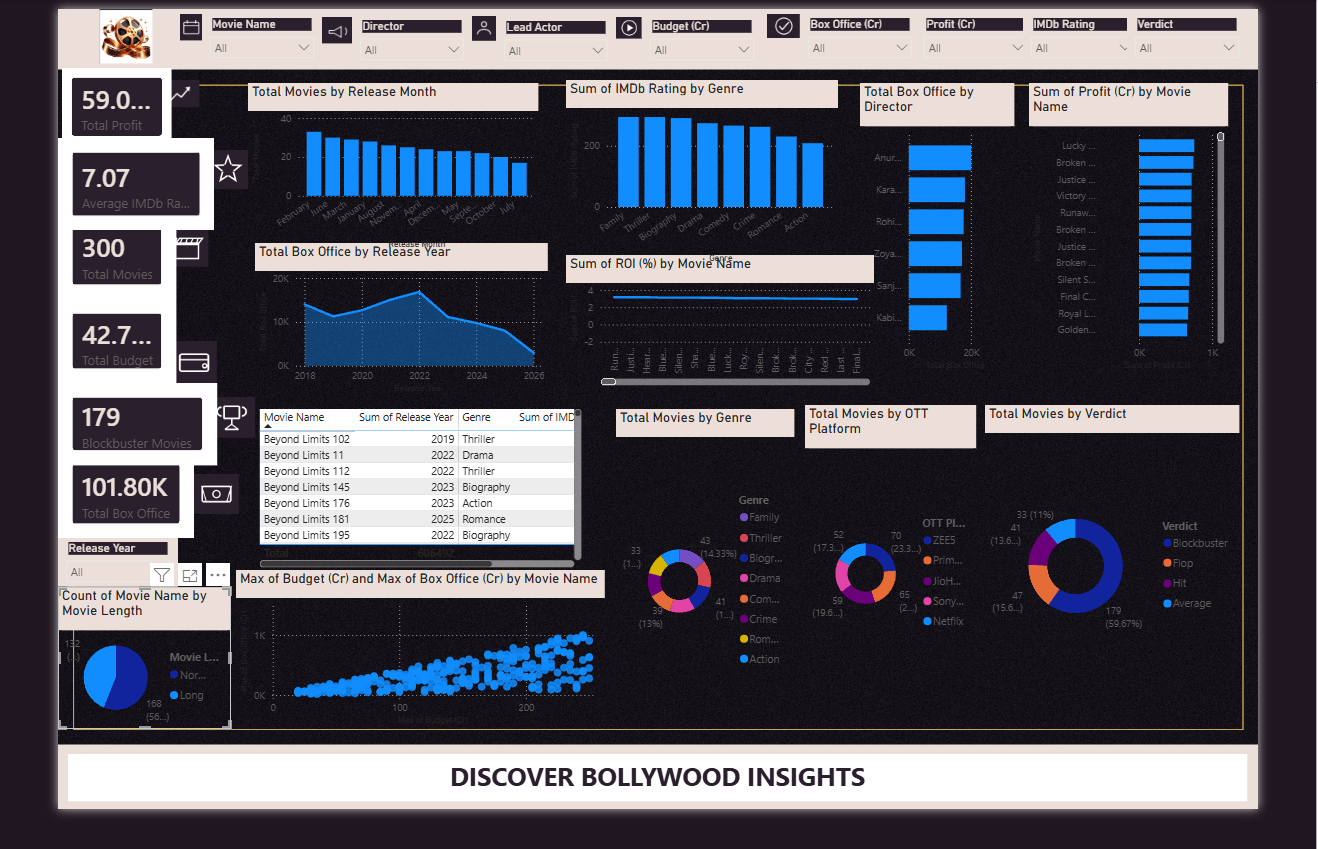

The page's visual inventory and layout, read from the dashboard file:
{"tool":"powerbi","page":{"name":"Page 1","canvas":[1500,1000],"ordinal":0},"visuals":[{"type":"image","box":[135,276.2,52.5,46.2],"z":0},{"type":"image","box":[170,581.2,55.7,50],"z":1000},{"type":"image","box":[142.5,415,55.7,52.9],"z":2000},{"type":"image","box":[128.8,88.8,47.5,33.8],"z":3000},{"type":"image","box":[187.5,176.2,50,48.8],"z":4000},{"type":"image","box":[187.5,485,58.6,51.4],"z":5000},{"type":"image","box":[152.5,6.2,28,33],"z":6000},{"type":"image","box":[517.5,8.8,30,31],"z":7000},{"type":"image","box":[330,10,37.5,32.5],"z":8000},{"type":"image","box":[886.2,6.2,41,30],"z":9000},{"type":"image","box":[697.5,10,32,27],"z":10000},{"type":"cardVisual","fields":{"Data":["BollywoodMovies.Total Movies"]},"box":[0,252.5,147.5,110],"z":11000},{"type":"cardVisual","fields":{"Data":["BollywoodMovies.Total Box Office"]},"box":[0,551.2,170,110],"z":12000},{"type":"cardVisual","fields":{"Data":["BollywoodMovies.Total Budget"]},"box":[0,362.5,147.5,105],"z":13000},{"type":"cardVisual","fields":{"Data":["BollywoodMovies.Total Profit"]},"box":[0,68.8,147.5,107.5],"z":14000},{"type":"cardVisual","fields":{"Data":["BollywoodMovies.Average IMDb Rating"]},"box":[0,161.2,195,115],"z":15000},{"type":"cardVisual","fields":{"Data":["BollywoodMovies.Blockbuster Movies"]},"box":[0,467.5,198.8,102.5],"z":16000},{"type":"slicer","fields":{"Values":["BollywoodMovies.Movie Name"]},"box":[180,6.2,150,68],"z":17000},{"type":"slicer","fields":{"Values":["BollywoodMovies.Lead Actor"]},"box":[547.5,10,150,61.2],"z":18000},{"type":"slicer","fields":{"Values":["BollywoodMovies.Director"]},"box":[367.5,8.8,150,63.8],"z":19000},{"type":"slicer","fields":{"Values":["BollywoodMovies.Box Office (Cr)"]},"box":[927.5,6.2,150,61.2],"z":20000},{"type":"slicer","fields":{"Values":["BollywoodMovies.Budget (Cr)"]},"box":[730,8.8,150,61.2],"z":21000},{"type":"areaChart","fields":{"Category":["BollywoodMovies.Release Year"],"Y":["BollywoodMovies.Total Box Office"]},"box":[246.2,292.5,366.2,192.5],"z":22000},{"type":"barChart","fields":{"Category":["BollywoodMovies.Movie Name"],"Y":["Sum(BollywoodMovies.Profit (Cr))"]},"box":[1213.8,92.5,248.8,363.8],"z":23000},{"type":"donutChart","fields":{"Category":["BollywoodMovies.Genre"],"Y":["BollywoodMovies.Total Movies"]},"box":[697.5,500,222.5,400],"z":24000},{"type":"lineChart","fields":{"Category":["BollywoodMovies.Movie Name"],"Y":["Sum(BollywoodMovies.ROI (%))"]},"box":[635,307.5,385,167.5],"z":25000},{"type":"barChart","fields":{"Category":["BollywoodMovies.Director"],"Y":["BollywoodMovies.Total Box Office"]},"box":[1002.5,92.5,192.5,363.8],"z":26000},{"type":"donutChart","fields":{"Category":["BollywoodMovies.Verdict"],"Y":["BollywoodMovies.Total Movies"]},"box":[1158.8,495,317.5,372.5],"z":27000},{"type":"donutChart","fields":{"Category":["BollywoodMovies.OTT Platform"],"Y":["BollywoodMovies.Total Movies"]},"box":[933.8,495,213.8,372.5],"z":28000},{"type":"tableEx","fields":{"Values":["BollywoodMovies.Movie Name","Sum(BollywoodMovies.Release Year)","BollywoodMovies.Genre","Sum(BollywoodMovies.IMDb Rating)","BollywoodMovies.Verdict"]},"box":[246.2,495,412.5,207.5],"z":29000},{"type":"columnChart","fields":{"Category":["BollywoodMovies.Genre"],"Y":["Sum(BollywoodMovies.IMDb Rating)"]},"box":[635,88.8,340,233.8],"z":30000},{"type":"columnChart","fields":{"Category":["BollywoodMovies.Release Month"],"Y":["BollywoodMovies.Total Movies"]},"box":[237.5,92.5,363,212],"z":31000},{"type":"image","box":[0,0,170,67.5],"z":32000},{"type":"slicer","fields":{"Values":["BollywoodMovies.Profit (Cr)"]},"box":[1072.5,6.2,150,61.2],"z":33000},{"type":"scatterChart","fields":{"X":["Max(BollywoodMovies.Budget (Cr))"],"Y":["Max(BollywoodMovies.Box Office (Cr))"],"Category":["BollywoodMovies.Movie Name"]},"box":[222.5,701.2,461.2,198.8],"z":34000},{"type":"slicer","fields":{"Values":["BollywoodMovies.IMDb Rating"]},"box":[1206.2,6.2,150,61.2],"z":35000},{"type":"slicer","fields":{"Values":["BollywoodMovies.Verdict"]},"box":[1336.2,6.2,150,61.2],"z":36000},{"type":"textbox","box":[12.5,931.2,1473.8,58.8],"z":37000},{"type":"slicer","fields":{"Values":["BollywoodMovies.Release Year"]},"box":[0,661.2,150,61.2],"z":38000},{"type":"pieChart","fields":{"Category":["BollywoodMovies.Movie Length"],"Y":["CountNonNull(BollywoodMovies.Movie Name)"]},"box":[0,722.5,216.2,177.5],"z":38001}]}

Visuals, with their boxes in screenshot pixels (x1, y1, x2, y2):
image: <box>160,230,203,267</box>
image: <box>189,476,233,516</box>
image: <box>166,342,211,384</box>
image: <box>155,78,194,106</box>
image: <box>203,149,243,188</box>
image: <box>203,398,250,439</box>
image: <box>174,12,197,38</box>
image: <box>469,14,493,39</box>
image: <box>318,15,348,41</box>
image: <box>766,12,799,36</box>
image: <box>614,15,640,37</box>
cardVisual - BollywoodMovies.Total Movies: <box>51,210,170,299</box>
cardVisual - BollywoodMovies.Total Box Office: <box>51,451,189,540</box>
cardVisual - BollywoodMovies.Total Budget: <box>51,299,170,384</box>
cardVisual - BollywoodMovies.Total Profit: <box>51,62,170,149</box>
cardVisual - BollywoodMovies.Average IMDb Rating: <box>51,137,209,230</box>
cardVisual - BollywoodMovies.Blockbuster Movies: <box>51,384,212,467</box>
slicer - BollywoodMovies.Movie Name: <box>197,12,318,67</box>
slicer - BollywoodMovies.Lead Actor: <box>493,15,614,64</box>
slicer - BollywoodMovies.Director: <box>348,14,469,65</box>
slicer - BollywoodMovies.Box Office (Cr): <box>799,12,920,61</box>
slicer - BollywoodMovies.Budget (Cr): <box>640,14,761,63</box>
areaChart - BollywoodMovies.Release Year x BollywoodMovies.Total Box Office: <box>250,243,545,398</box>
barChart - BollywoodMovies.Movie Name x Sum(BollywoodMovies.Profit (Cr)): <box>1030,81,1231,375</box>
donutChart - BollywoodMovies.Genre x BollywoodMovies.Total Movies: <box>614,410,793,733</box>
lineChart - BollywoodMovies.Movie Name x Sum(BollywoodMovies.ROI (%)): <box>564,255,874,390</box>
barChart - BollywoodMovies.Director x BollywoodMovies.Total Box Office: <box>860,81,1015,375</box>
donutChart - BollywoodMovies.Verdict x BollywoodMovies.Total Movies: <box>986,406,1242,706</box>
donutChart - BollywoodMovies.OTT Platform x BollywoodMovies.Total Movies: <box>805,406,977,706</box>
tableEx - BollywoodMovies.Movie Name x Sum(BollywoodMovies.Release Year): <box>250,406,583,573</box>
columnChart - BollywoodMovies.Genre x Sum(BollywoodMovies.IMDb Rating): <box>564,78,838,267</box>
columnChart - BollywoodMovies.Release Month x BollywoodMovies.Total Movies: <box>243,81,536,252</box>
image: <box>51,7,189,61</box>
slicer - BollywoodMovies.Profit (Cr): <box>916,12,1037,61</box>
scatterChart - Max(BollywoodMovies.Budget (Cr)) x Max(BollywoodMovies.Box Office (Cr)): <box>231,572,603,733</box>
slicer - BollywoodMovies.IMDb Rating: <box>1024,12,1145,61</box>
slicer - BollywoodMovies.Verdict: <box>1129,12,1250,61</box>
textbox: <box>62,758,1250,805</box>
slicer - BollywoodMovies.Release Year: <box>51,540,172,589</box>
pieChart - BollywoodMovies.Movie Length x CountNonNull(BollywoodMovies.Movie Name): <box>51,589,226,733</box>
